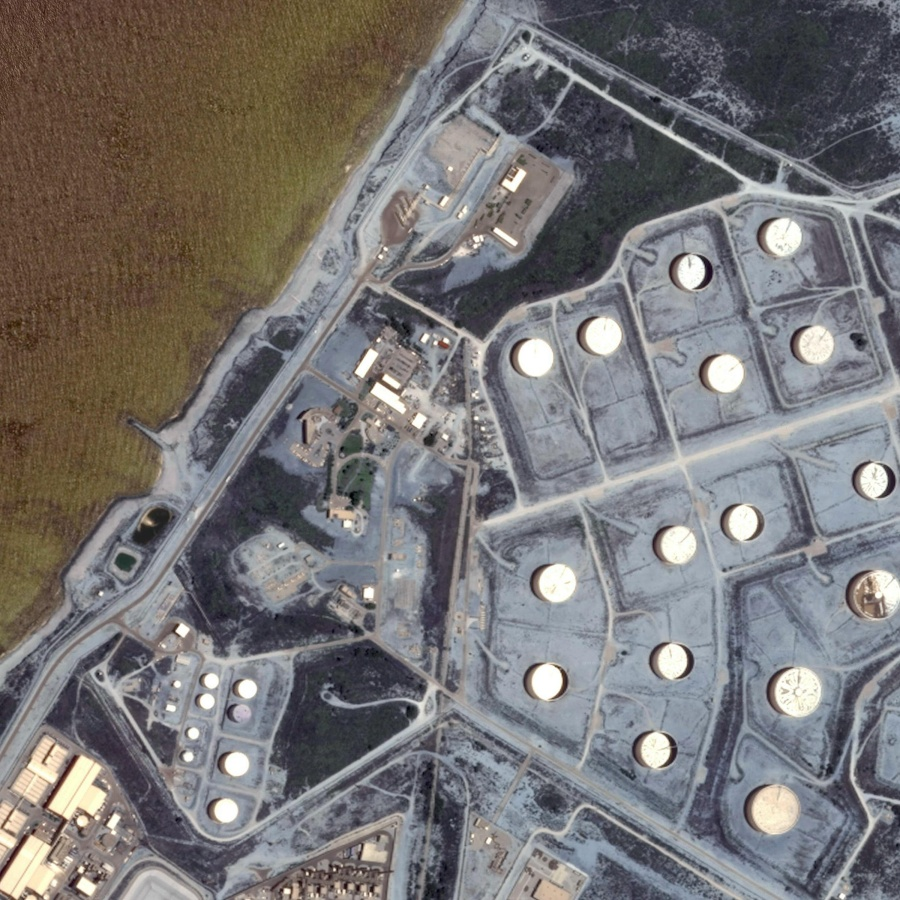PowerPlant: (98, 622, 330, 836)
